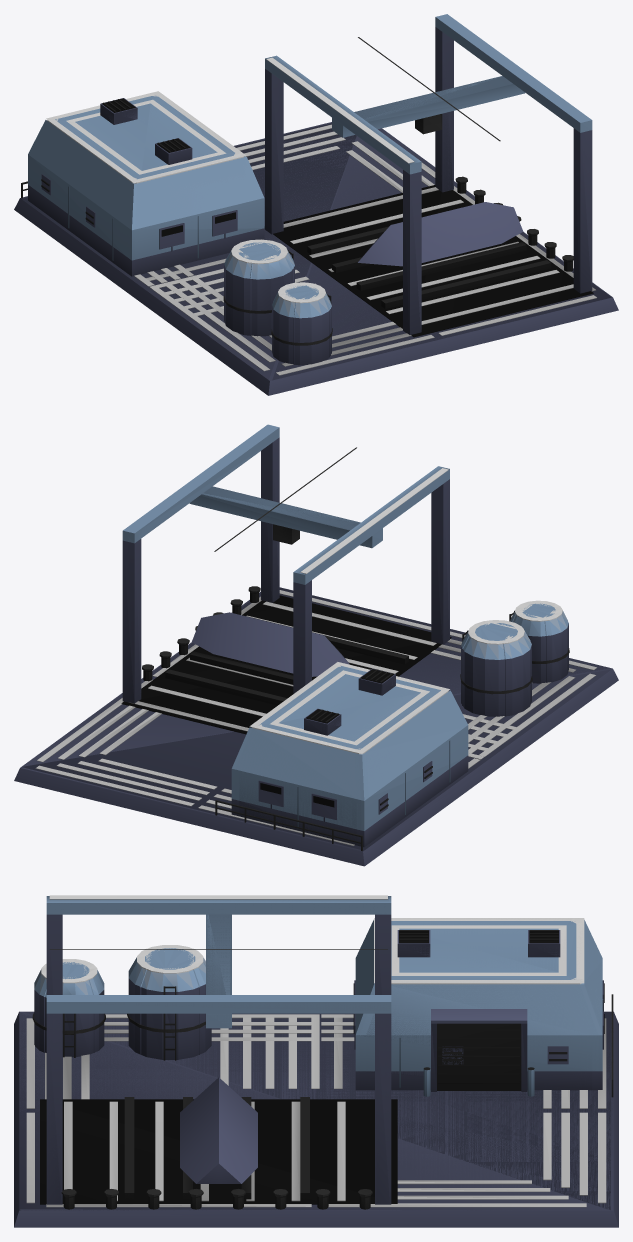
Rendered from veyran_shipyard.glb.
3 views of the same model, one above another, from view 1: azimuth 30°, elevation 25°; view 2: azimuth 150°, elevation 25°; view 3: azimuth 270°, elevation 25° (orthographic). The views are drawn at different scales.
Visible parts, largest first — view 1: body (×3); view 2: body (×3); view 3: body (×3).
Part boxes in pixels (x1,y1,x2,y2): body (×3): [14, 14, 618, 395]; body (×3): [14, 424, 618, 866]; body (×3): [14, 895, 618, 1227].
Size of the model in its own units: 14.8 by 7.42 by 18.6.
